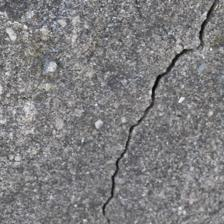Crack: (50, 2, 168, 216)
